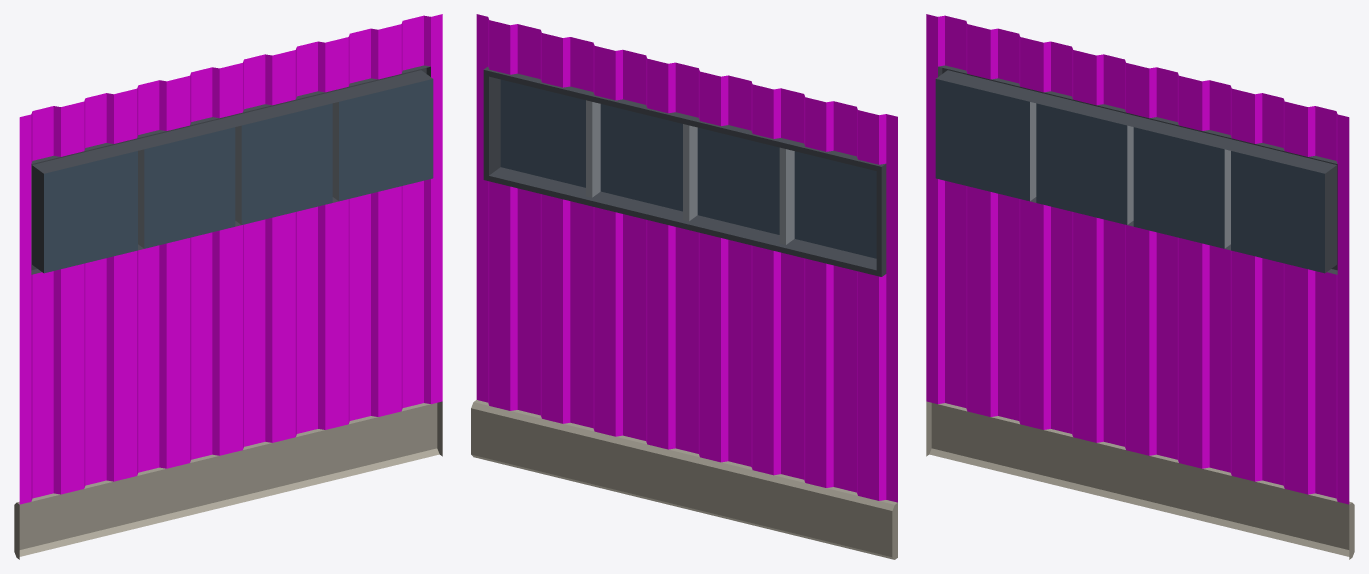
File: ind_wall_win.glb
The picture shows the model from 3 angles, left to right: view 1: azimuth 30°, elevation 25°; view 2: azimuth 150°, elevation 25°; view 3: azimuth 330°, elevation 25°; orthographic projection.
Parts seen in each view (by area): view 1: ind_wall_win__mesh; view 2: ind_wall_win__mesh; view 3: ind_wall_win__mesh.
Boxes of the visible parts, x1=… form: ind_wall_win__mesh: x1=14, y1=14, x2=442, y2=559; ind_wall_win__mesh: x1=471, y1=14, x2=897, y2=559; ind_wall_win__mesh: x1=926, y1=14, x2=1354, y2=559.
Size of what is drawn, in the model's own units: 4 by 4 by 0.21.
Materials: 2 (1 with a texture image).
